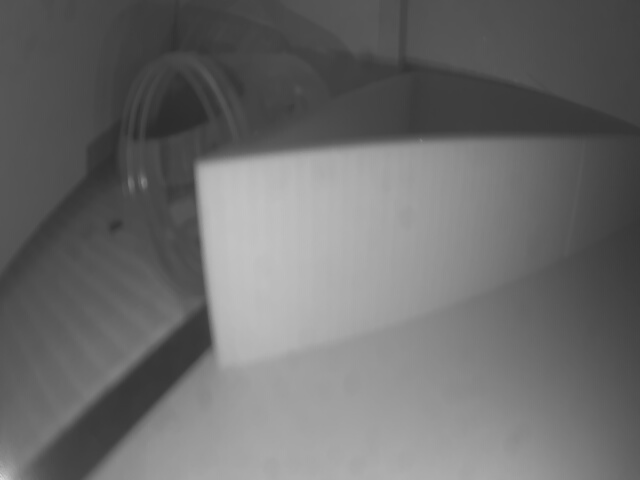Point: (207, 138, 636, 371)
